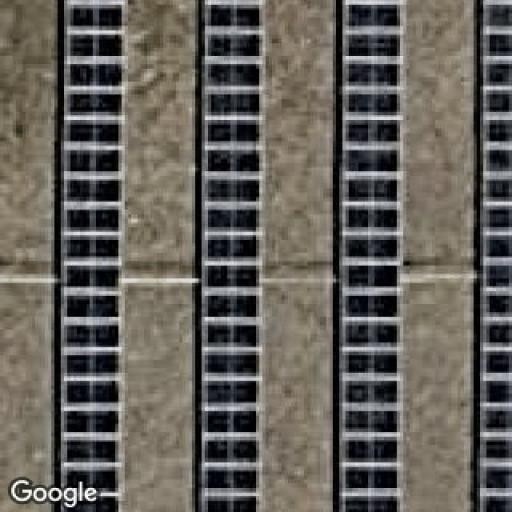solar-panel: (197, 1, 264, 512), (60, 0, 126, 512), (339, 3, 400, 512), (481, 3, 512, 512)
